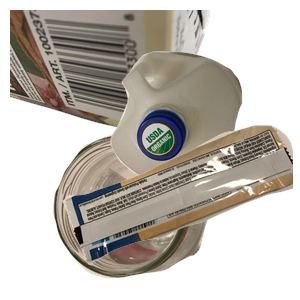cardboard: (10, 10, 213, 146)
glass: (50, 131, 252, 300)
plastic: (108, 49, 300, 226)
trash: (60, 123, 300, 300)
